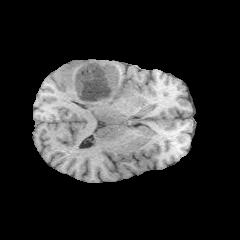glioma: (61, 61, 132, 105)
